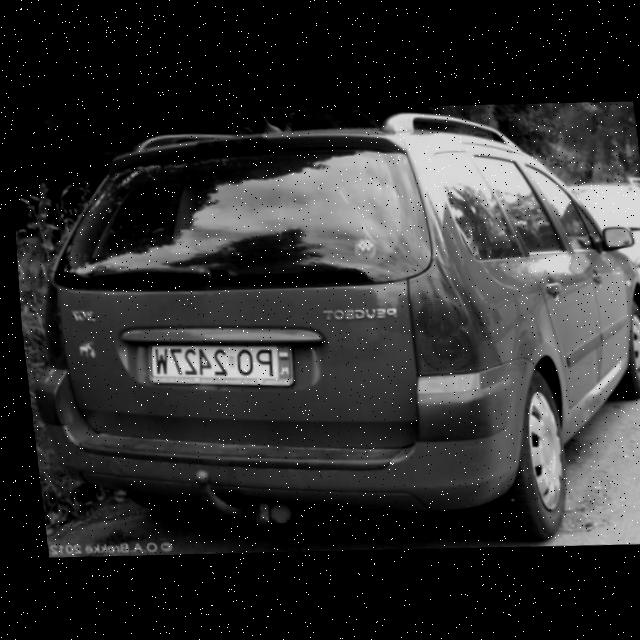license-plates: (149, 346, 293, 387)
